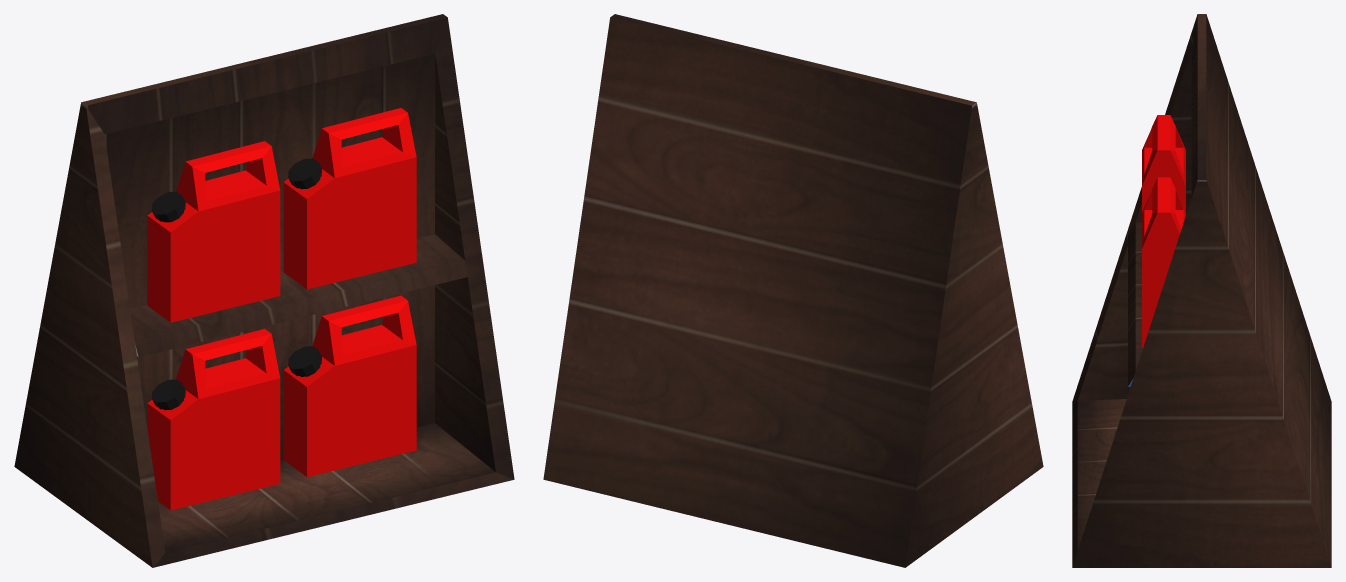
Rendered from benzin standı.fbx.
3 renders of one model, left to right at view 1: azimuth 30°, elevation 25°; view 2: azimuth 150°, elevation 25°; view 3: azimuth 270°, elevation 25°, orthographic. The views are drawn at different scales.
Parts seen in each view (by area): view 1: Icosphere.001; view 2: Icosphere.001; view 3: Icosphere.001.
Boxes of the visible parts, x1=… form: Icosphere.001: x1=14, y1=14, x2=514, y2=567; Icosphere.001: x1=543, y1=14, x2=1043, y2=567; Icosphere.001: x1=1072, y1=14, x2=1331, y2=567.
Bounding box in the file's own units: 49.64 × 54.18 × 32.83.
2 materials, 2 textured.
